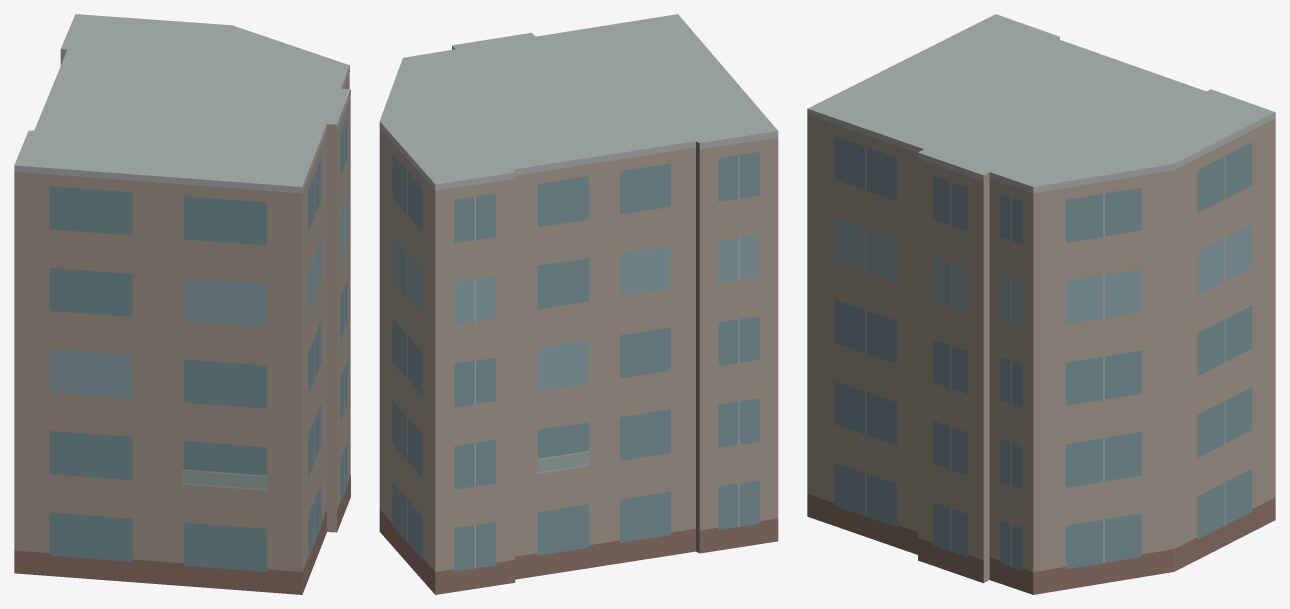
The model's file is survey-upis-32587665.glb.
3 renders of one model, left to right at view 1: azimuth 30°, elevation 25°; view 2: azimuth 150°, elevation 25°; view 3: azimuth 270°, elevation 25°, orthographic.
Parts seen in each view (by area): view 1: survey-upis-32587665.tmp; view 2: survey-upis-32587665.tmp; view 3: survey-upis-32587665.tmp.
Part boxes in pixels (x1=…): survey-upis-32587665.tmp: x1=14, y1=14, x2=350, y2=594; survey-upis-32587665.tmp: x1=379, y1=14, x2=778, y2=594; survey-upis-32587665.tmp: x1=807, y1=14, x2=1275, y2=594.
Bounding box in the file's own units: 14.38 × 15.8 × 16.44.
